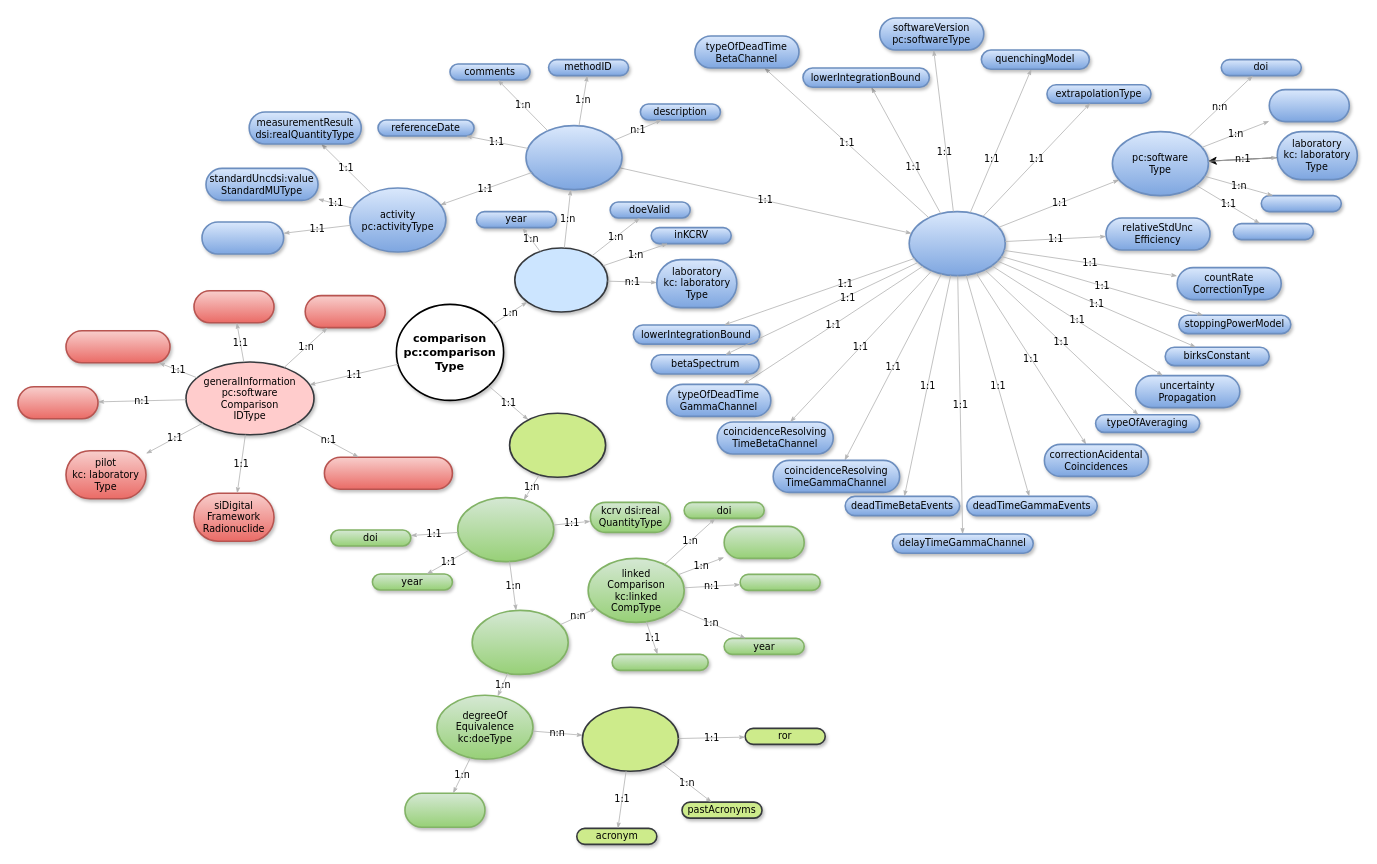
Image size: 1377x864. Some labels were removed from this diagram. Here are the shapes that lost their labels. From the top down, the centre of each, then its label:
At pixel 1309 106: "software Application".
At pixel 574 158: "laboratory Measurements pc:software LabMeasType".
At pixel 1301 204: "softwareVersion".
At pixel 243 239: "effDegrees OfFreedom".
At pixel 957 244: "measurement Metadata pc:measMeta DataType".
At pixel 1274 232: "softwareName".
At pixel 561 281: "comparison Submissions pc:submission Type".
At pixel 234 307: "dataset MeasType".
At pixel 345 312: "dataset DownLink".
At pixel 118 347: "software ComparisonCode".
At pixel 58 403: "service CategoryPID".
At pixel 558 446: "comparisonData kc:comparison DataType".
At pixel 389 474: "linkedComparisonCode kc:linkedCompType".
At pixel 506 530: "release kc:release Type".
At pixel 764 543: "consultative Committee".
At pixel 780 583: "rmo".
At pixel 520 643: "degreesOf Equivalence kc:doesType".
At pixel 660 663: "comparisonCode".
At pixel 631 740: "laboratory kc:laboratory Type".
At pixel 445 811: "result dsi:real QuantityType".
